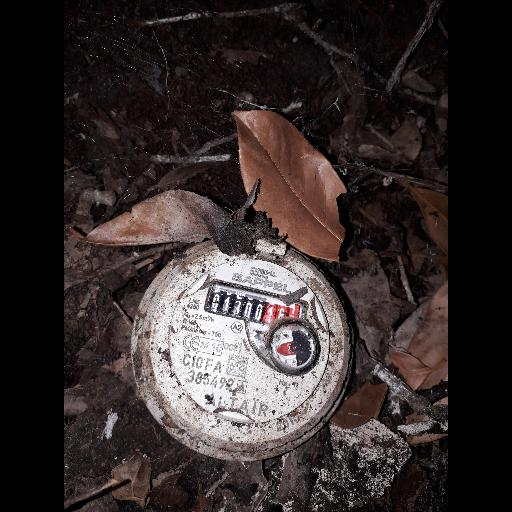0: (210, 289, 225, 312), (241, 298, 256, 321), (252, 300, 266, 323)
1: (261, 301, 277, 325), (220, 292, 234, 314), (288, 303, 300, 319)
3: (231, 294, 246, 316)
8: (276, 305, 289, 321)
border_water_meter_number: (207, 281, 313, 334)
